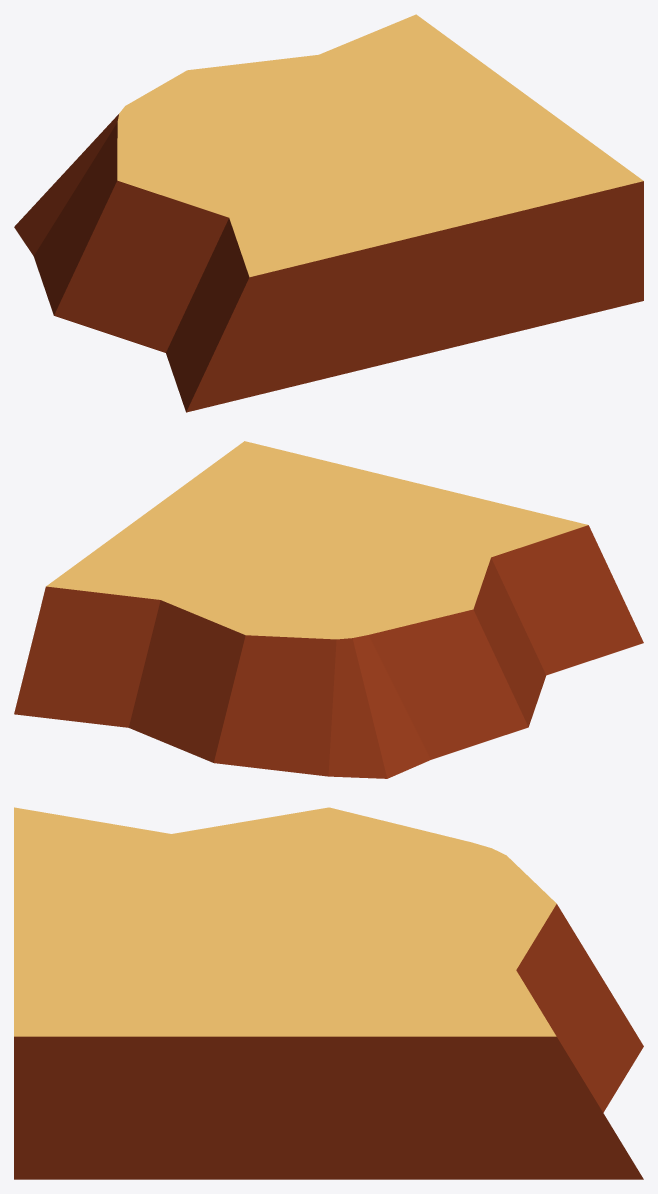
File: sand_end_cornerExt.fbx
3 renders of one model, top to bottom at view 1: azimuth 30°, elevation 25°; view 2: azimuth 150°, elevation 25°; view 3: azimuth 270°, elevation 25°, orthographic. The views are drawn at different scales.
Visible parts, largest first — view 1: sand_end_exteriorCorner; view 2: sand_end_exteriorCorner; view 3: sand_end_exteriorCorner.
Boxes of the visible parts, x1,y1,x2,y2 form: sand_end_exteriorCorner: [14, 14, 643, 412]; sand_end_exteriorCorner: [14, 441, 643, 778]; sand_end_exteriorCorner: [14, 807, 643, 1179].
Size of the model in its own units: 200 by 50 by 200.
